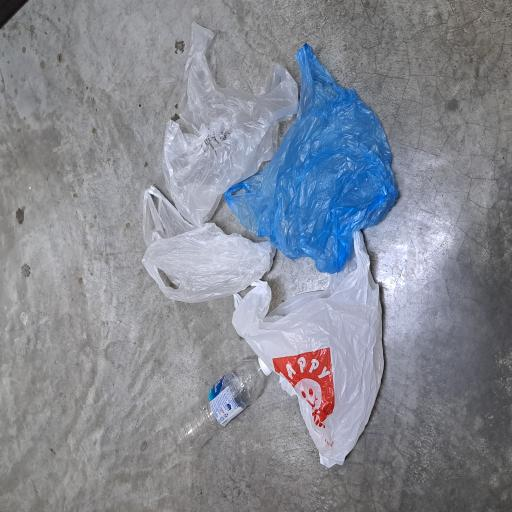plastic bag: (35, 314, 207, 507), (183, 307, 343, 512), (226, 213, 368, 399), (156, 180, 240, 362)
plastic bottle: (43, 230, 113, 352)
plastic bottle cap: (100, 340, 115, 360)
